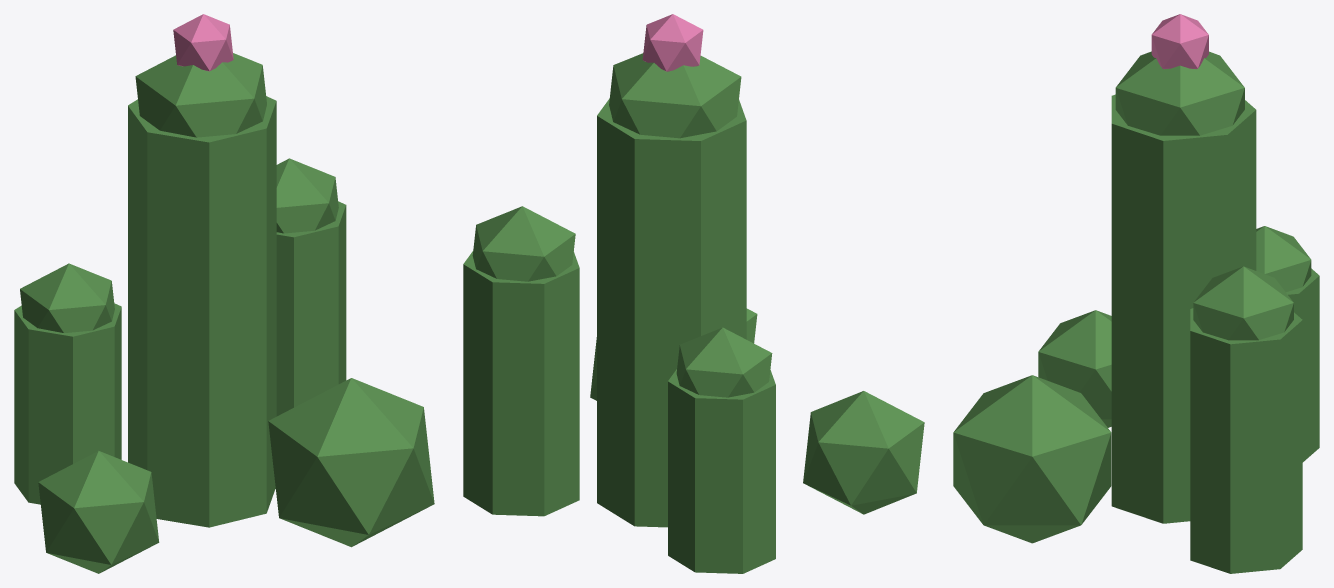
Rendered from buisson_desert_2.glb.
3 renders of one model, left to right at view 1: azimuth 30°, elevation 25°; view 2: azimuth 150°, elevation 25°; view 3: azimuth 270°, elevation 25°, orthographic.
Visible parts, largest first — view 1: cactus_cactus.004, cactus_rose.004; view 2: cactus_cactus.004, cactus_rose.004; view 3: cactus_cactus.004, cactus_rose.004.
Boxes of the visible parts, <box> form: cactus_cactus.004: <box>14,53,434,573</box>; cactus_rose.004: <box>173,14,233,71</box>; cactus_cactus.004: <box>463,53,924,573</box>; cactus_rose.004: <box>642,14,703,71</box>; cactus_cactus.004: <box>953,51,1319,573</box>; cactus_rose.004: <box>1151,14,1208,69</box>.
Size of the model in its own units: 0.4998 by 0.645 by 0.4336.
